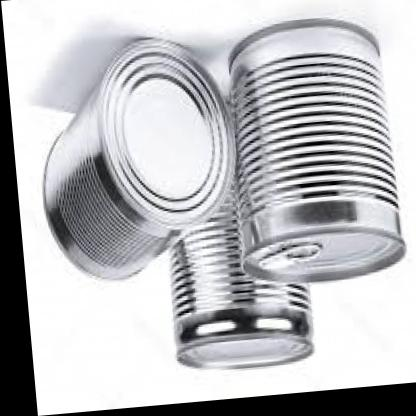Metal: (216, 7, 409, 320), (22, 25, 243, 297), (131, 221, 330, 398)
